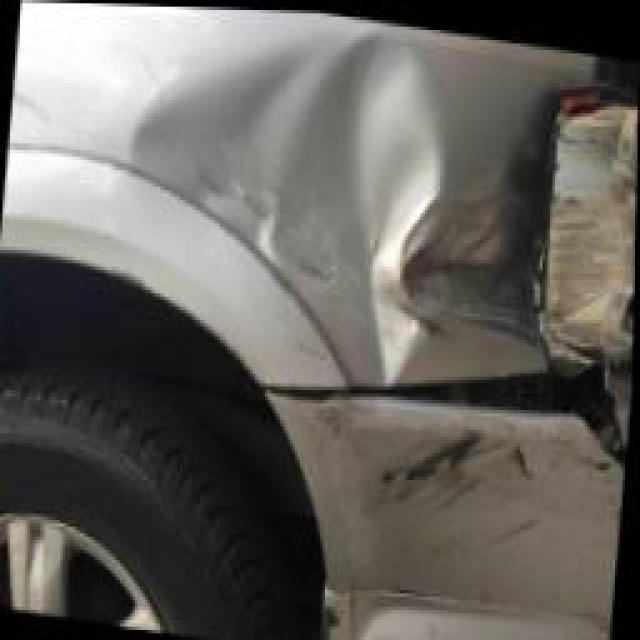Bumper: (268, 323, 632, 640)
Fender: (0, 0, 565, 351)
Light: (545, 50, 640, 367)
